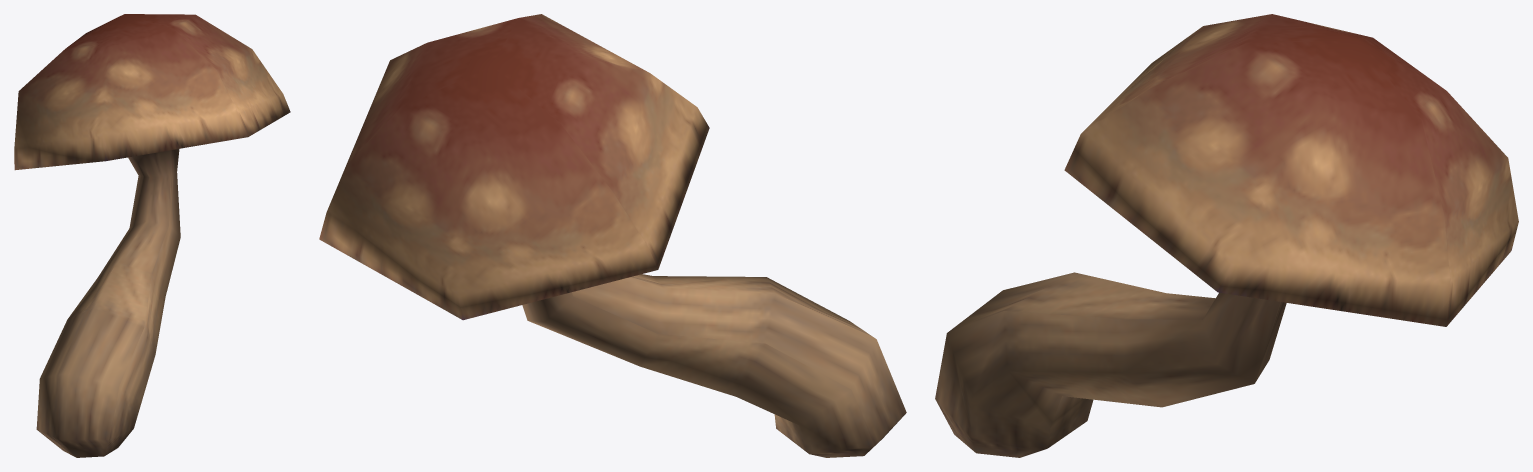
File: yw_shanlin_mushroom_001.FBX
The picture shows the model from 3 angles, left to right: view 1: azimuth 30°, elevation 25°; view 2: azimuth 150°, elevation 25°; view 3: azimuth 270°, elevation 25°; orthographic projection. The views are drawn at different scales.
Visible parts, largest first — view 1: yw_shanlin_mushroom_001; view 2: yw_shanlin_mushroom_001; view 3: yw_shanlin_mushroom_001.
Boxes of the visible parts, x1,y1,x2,y2 form: yw_shanlin_mushroom_001: (14,14,290,457); yw_shanlin_mushroom_001: (319,14,906,457); yw_shanlin_mushroom_001: (935,14,1518,457).
Size of the model in its own units: 263 by 270 by 269.
